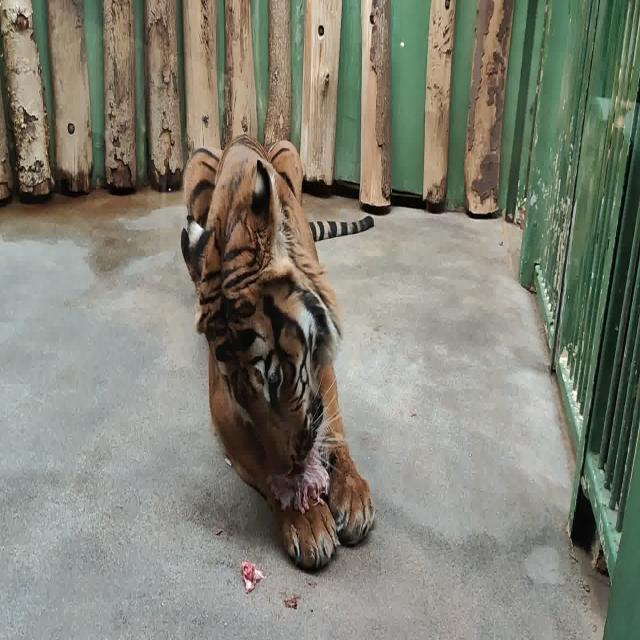tiger: (181, 133, 376, 572)
